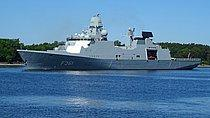MIL_Ship: (16, 12, 203, 71)
